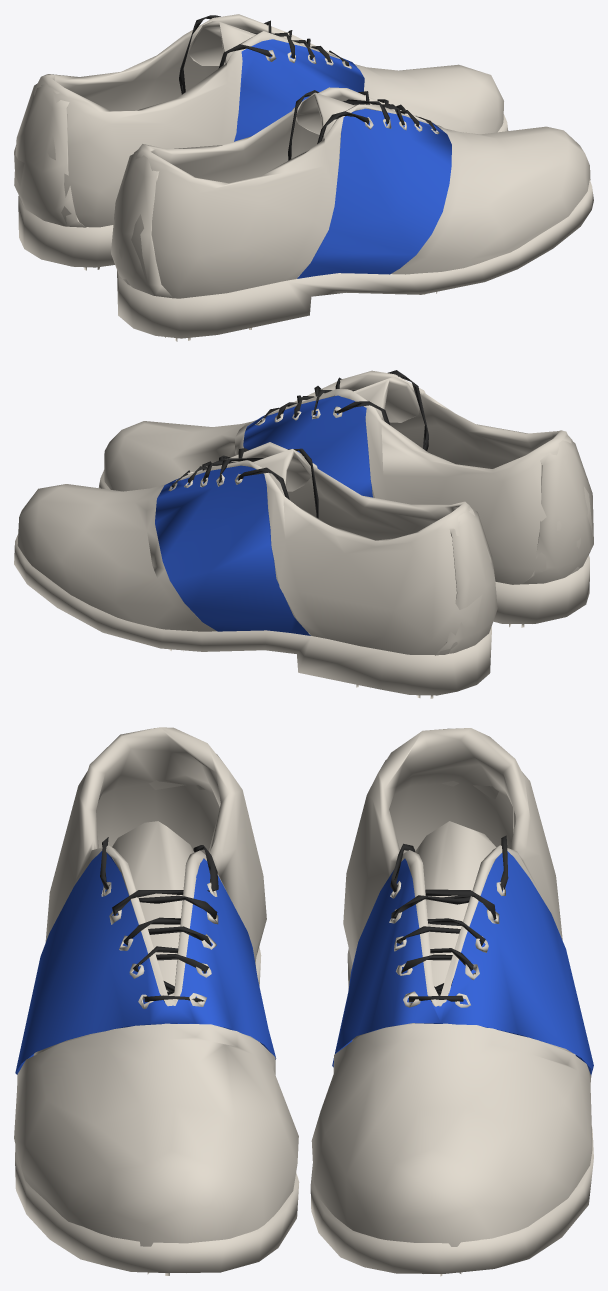
The model's file is Shoes.fbx.
The picture shows the model from 3 angles, top to bottom: view 1: azimuth 30°, elevation 25°; view 2: azimuth 150°, elevation 25°; view 3: azimuth 270°, elevation 25°; orthographic projection. The views are drawn at different scales.
Parts seen in each view (by area): view 1: Shoes.003; view 2: Shoes.003; view 3: Shoes.003.
Boxes of the visible parts, left/top/right/bottom form: Shoes.003: left=14, top=14, right=593, bottom=341; Shoes.003: left=14, top=370, right=593, bottom=698; Shoes.003: left=14, top=727, right=593, bottom=1276.
Bounding box in the file's own units: 79.33 × 31.4 × 56.14.
